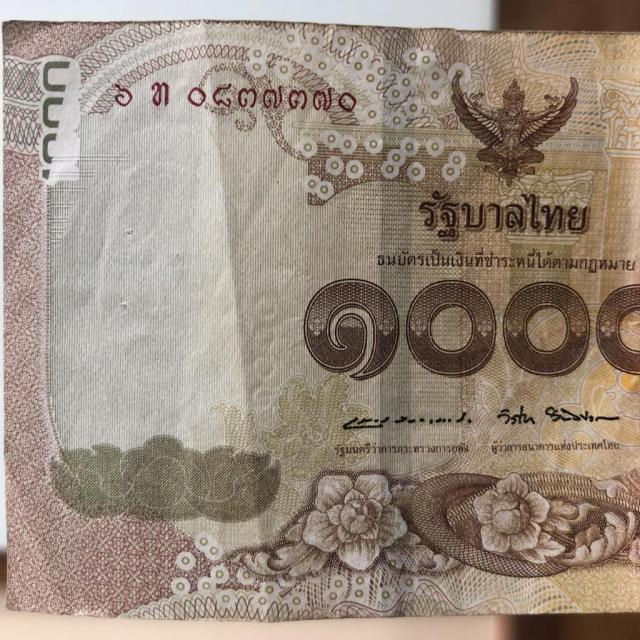THAI1000: (0, 19, 639, 625)
